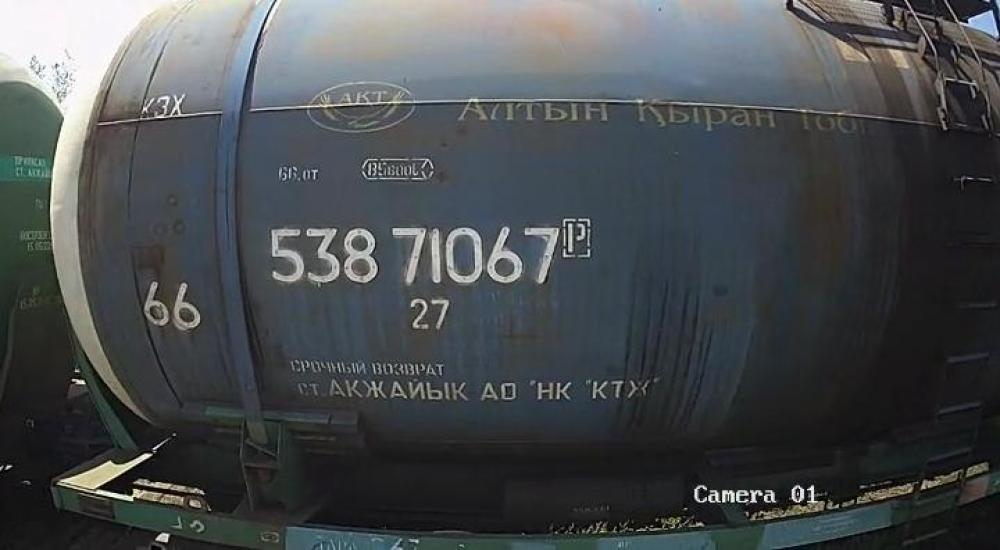Wagon-number: (261, 219, 564, 291)
